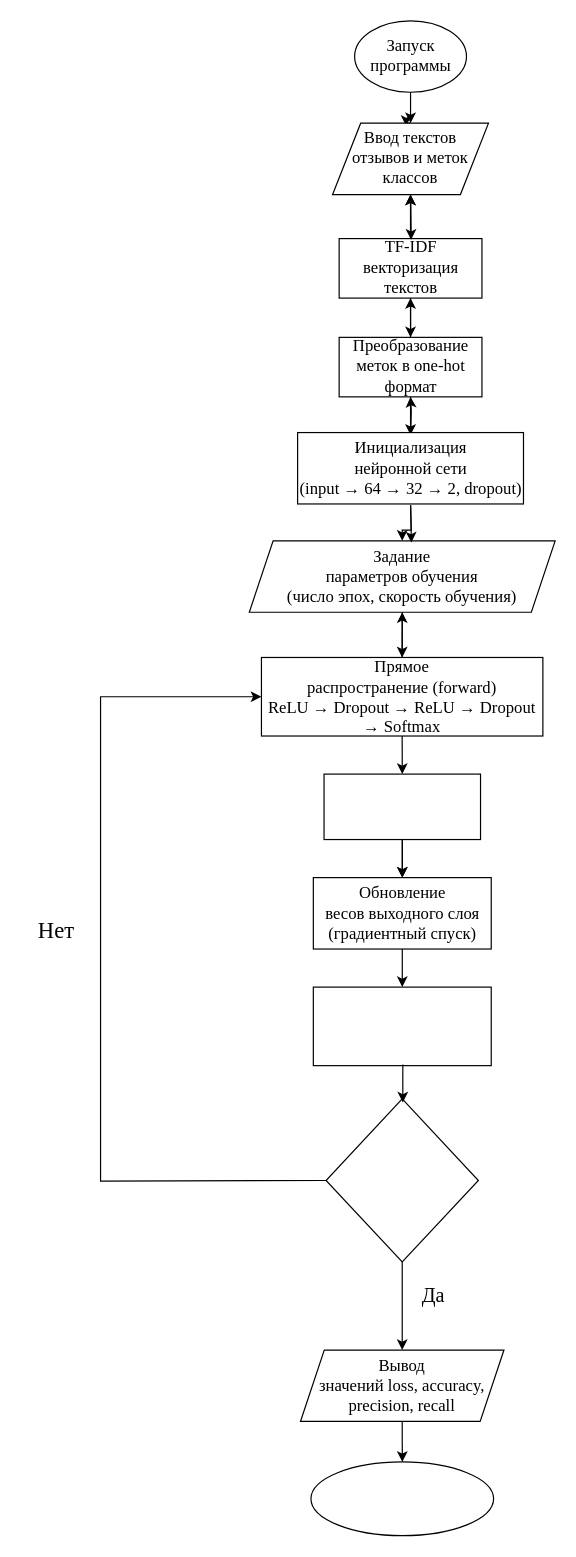
Some shapes in this 576 by 1557 pixel diagram are drawn without their labels. Here are the shapes that lost their labels. From the top down, the centre of each, then its label:
At point 402,806: "Вычисление функции потерь (cross-entropy)".
At point 401,1026: "Вычисление метрик качества accuracy, precision, recall".
At point 401,1180: "Все эпохи обучения выполнены?".
At point 402,1498: "Завершение работы программы".
